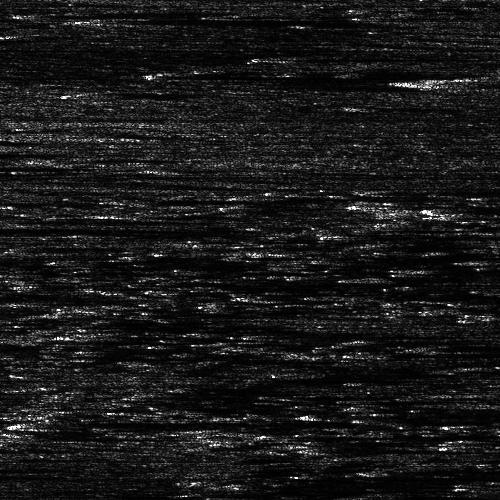object: (349, 193, 484, 220), (355, 301, 500, 314), (392, 71, 500, 88), (30, 14, 175, 25), (284, 348, 429, 359), (46, 193, 181, 204), (0, 417, 115, 428), (392, 293, 500, 304), (267, 442, 350, 453), (245, 50, 328, 59), (1, 8, 84, 15), (459, 234, 500, 247), (347, 273, 410, 278), (0, 216, 20, 221)
shadow: (42, 417, 345, 428), (103, 14, 350, 25), (417, 193, 500, 220), (42, 8, 348, 15), (113, 193, 303, 204), (357, 348, 500, 359), (287, 50, 416, 59), (0, 227, 203, 232), (0, 216, 171, 221), (0, 291, 93, 300), (438, 301, 500, 314), (309, 442, 373, 453), (379, 273, 500, 278), (449, 293, 500, 304), (0, 165, 33, 176)
